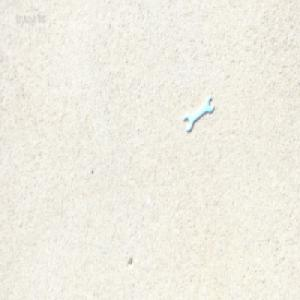Wrench: (183, 95, 213, 131)
